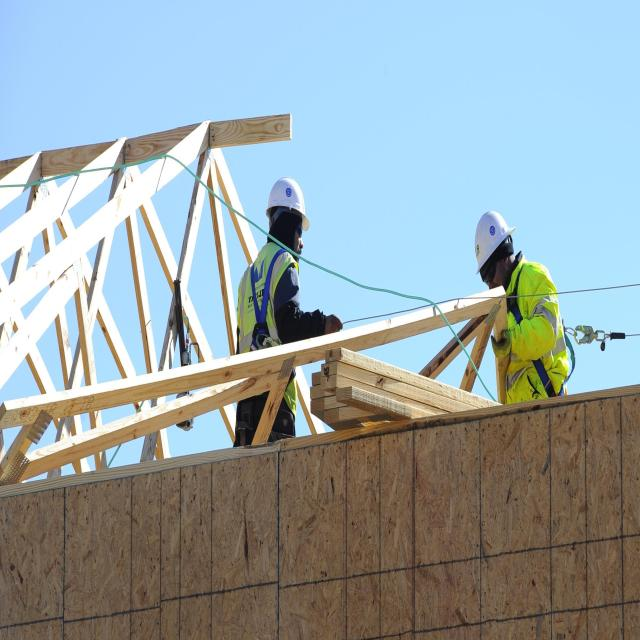helmet: (470, 192, 519, 274), (262, 175, 314, 222)
jacket: (230, 240, 314, 413), (488, 246, 568, 402)
